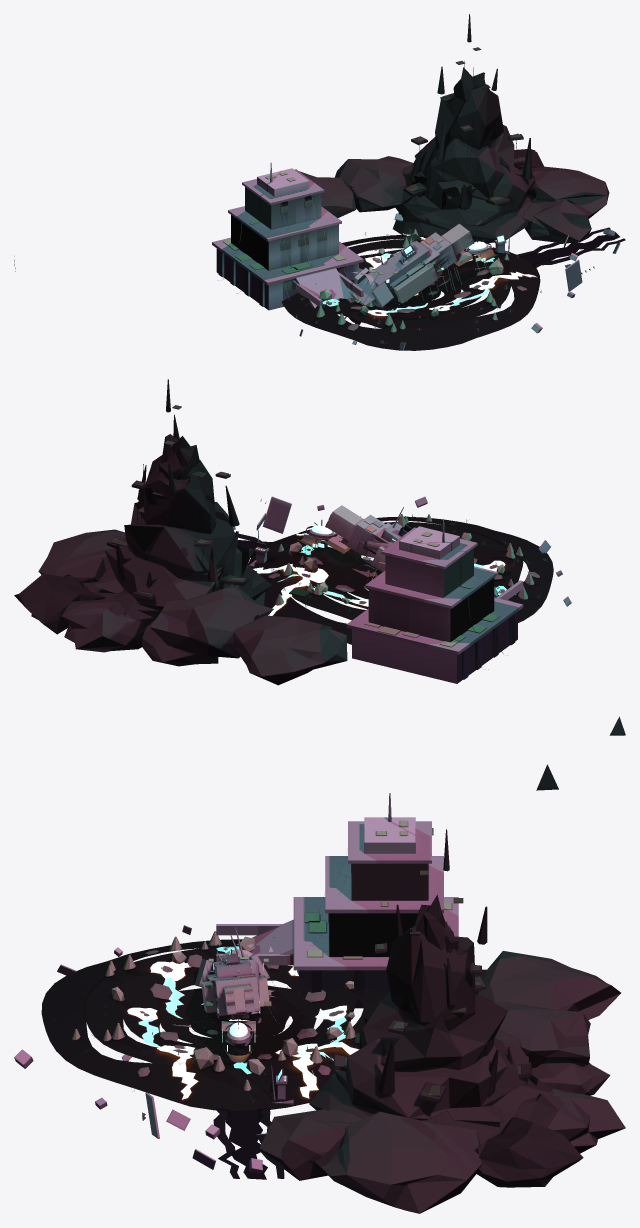
File: landmark-projects.glb
3 renders of one model, top to bottom at view 1: azimuth 30°, elevation 25°; view 2: azimuth 150°, elevation 25°; view 3: azimuth 270°, elevation 25°, orthographic. The views are drawn at different scales.
Visible parts, largest first — view 1: bld_mtn2_merged, bld_fortress_merged, sat_ground_merged_v2, sat_structural_merged, sat_crash_extras_merged, sat_volcanic_features_merged, sat_structural_v2_merged, sat_organics_extra_merged, sat_organics_merged; view 2: bld_mtn2_merged, bld_fortress_merged, sat_ground_merged_v2, sat_structural_merged, sat_crash_extras_merged, sat_organics_merged, sat_structural_v2_merged, sat_organics_extra_merged, sat_volcanic_features_merged; view 3: bld_mtn2_merged, sat_ground_merged_v2, bld_fortress_merged, sat_crash_extras_merged, sat_structural_merged, sat_volcanic_features_merged, sat_organics_merged, sat_organics_extra_merged, sat_structural_v2_merged.
Part boxes in pixels (bbox=[...]): bld_mtn2_merged: bbox=[299, 14, 609, 243]; bld_fortress_merged: bbox=[212, 162, 363, 314]; sat_ground_merged_v2: bbox=[281, 234, 540, 350]; sat_structural_merged: bbox=[344, 223, 488, 325]; sat_crash_extras_merged: bbox=[14, 213, 625, 350]; sat_volcanic_features_merged: bbox=[326, 257, 526, 330]; sat_structural_v2_merged: bbox=[360, 245, 498, 294]; sat_organics_extra_merged: bbox=[296, 232, 541, 343]; sat_organics_merged: bbox=[319, 237, 504, 316]; bld_mtn2_merged: bbox=[14, 379, 347, 685]; bld_fortress_merged: bbox=[346, 520, 523, 683]; sat_ground_merged_v2: bbox=[248, 516, 553, 644]; sat_structural_merged: bbox=[325, 505, 412, 571]; sat_crash_extras_merged: bbox=[232, 496, 625, 735]; sat_organics_merged: bbox=[289, 531, 504, 603]; sat_structural_v2_merged: bbox=[297, 529, 392, 579]; sat_organics_extra_merged: bbox=[271, 514, 547, 611]; sat_volcanic_features_merged: bbox=[268, 547, 539, 604]; bld_mtn2_merged: bbox=[259, 829, 625, 1213]; sat_ground_merged_v2: bbox=[41, 939, 388, 1110]; bld_fortress_merged: bbox=[216, 793, 458, 1008]; sat_crash_extras_merged: bbox=[14, 764, 558, 1179]; sat_structural_merged: bbox=[173, 927, 269, 1027]; sat_volcanic_features_merged: bbox=[137, 946, 343, 1076]; sat_organics_merged: bbox=[111, 936, 355, 1076]; sat_organics_extra_merged: bbox=[52, 931, 355, 1101]; sat_structural_v2_merged: bbox=[202, 949, 277, 1062].
Size of the model in its own units: 54 by 20.42 by 35.6.
Materials: 29 (13 with a texture image).
